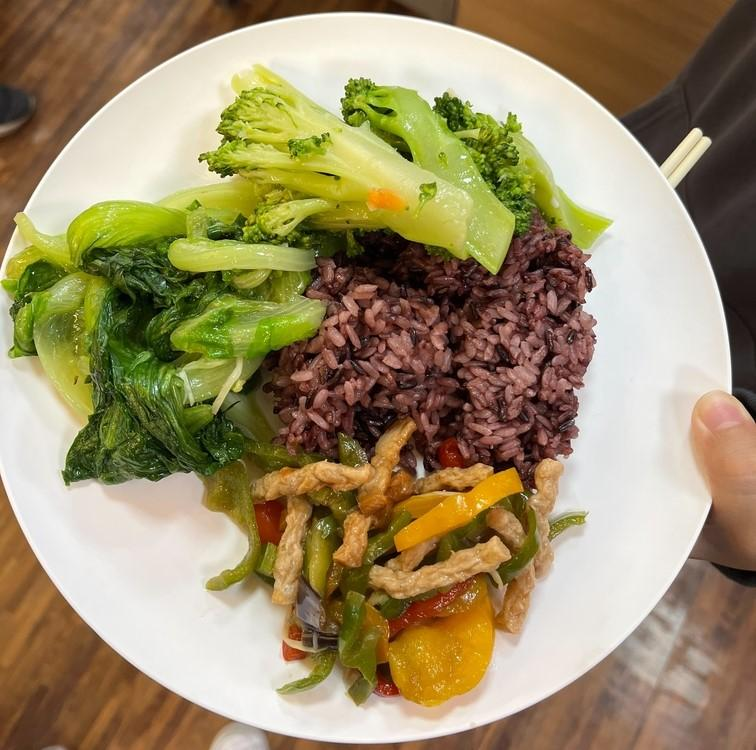big fried chicken leg: (9, 10, 746, 750)
braised fish: (270, 220, 590, 466)
braised fish fillet: (209, 450, 587, 702), (7, 189, 307, 493), (210, 63, 607, 269)
